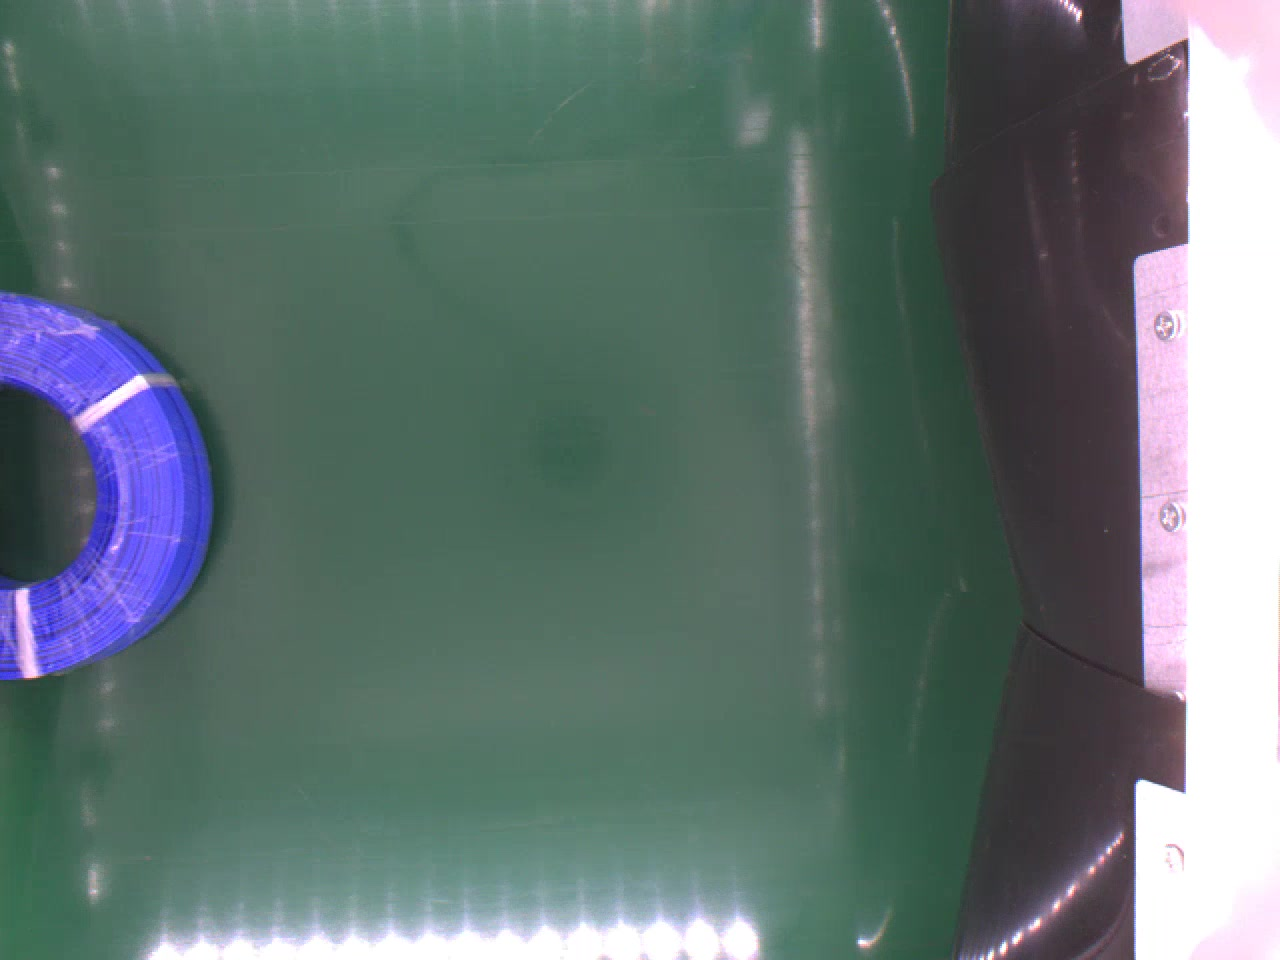blue: (0, 292, 213, 681)
